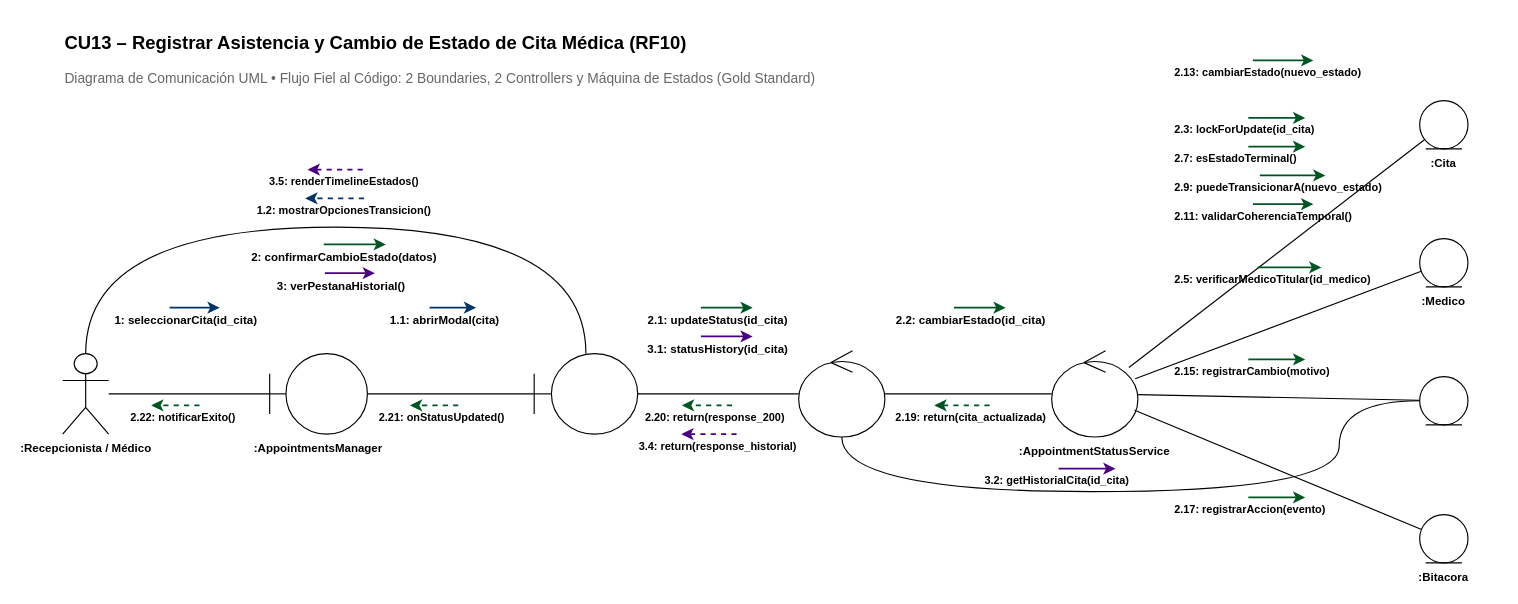
Some shapes in this 1518 by 604 pixel diagram are drawn without their labels. Here are the shapes that lost their labels. From the top down, the centre of each, then its label:
At [585,393]: ":AppointmentStatusModal".
At [841,393]: ":AppointmentsController".
At [1443,400]: ":CitaEstadoHistorial".
